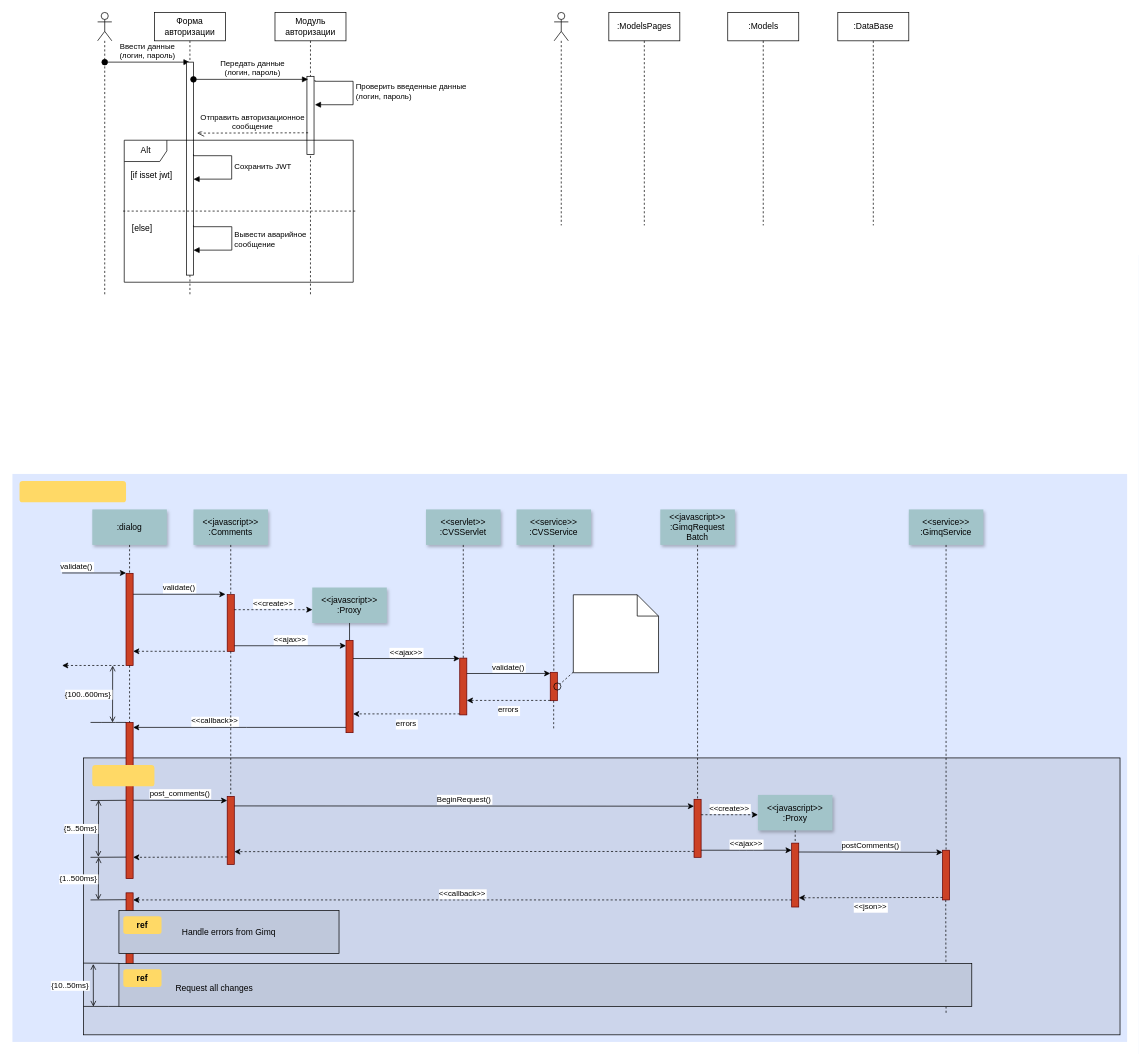
Some shapes in this 1139 by 1054 pixel diagram are drawn without their labels. Each missing label, with the centre of its shape:
"- user validation - password check" belongs at point (616, 633).
"opt" belongs at point (123, 775).
"rt submit_changes" belongs at point (72, 491).
